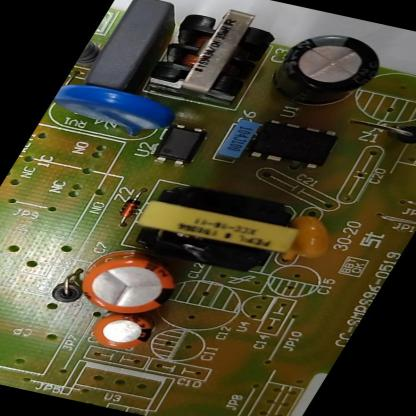Cap1: (69, 251, 188, 321)
Cap2: (85, 310, 161, 353)
Cap3: (263, 25, 391, 112)
MOSFET: (243, 117, 344, 170)
Mov: (46, 78, 181, 138)
Resistor: (76, 36, 110, 68)
Transformer: (120, 180, 306, 279), (141, 0, 286, 105)
